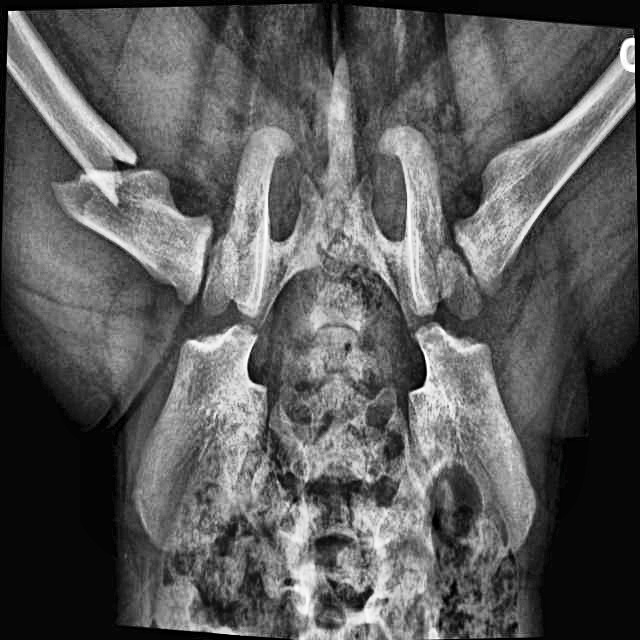Transverse: (39, 120, 169, 228)
